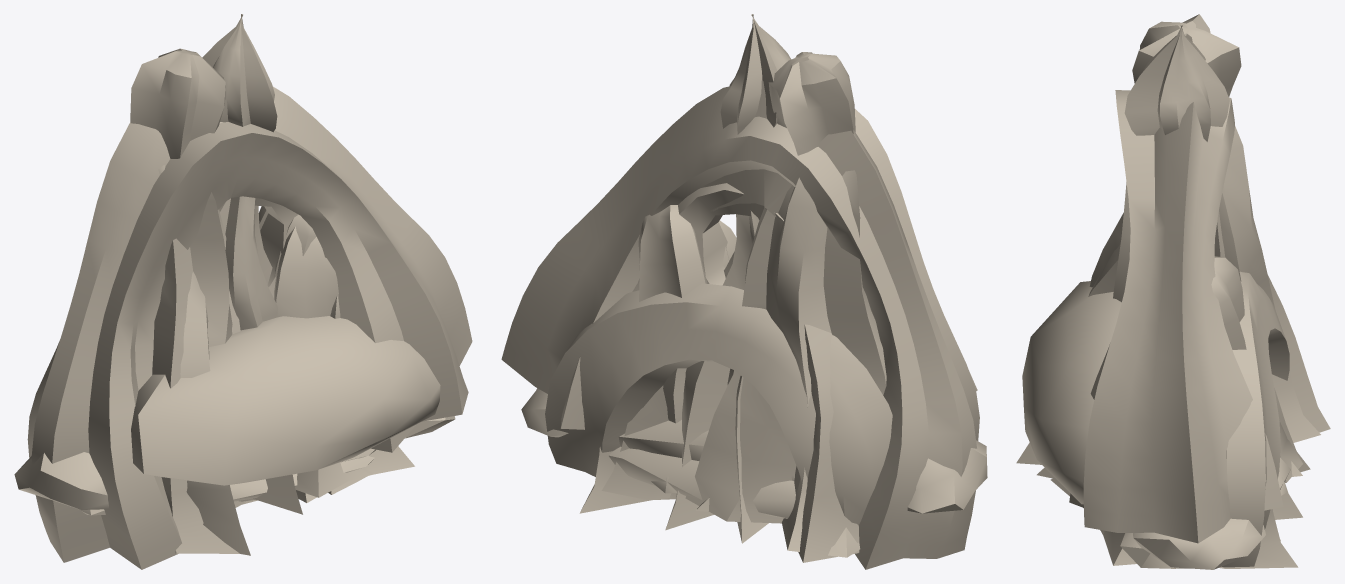
File: Dawnspire_Rocks.fbx
3 renders of one model, left to right at view 1: azimuth 30°, elevation 25°; view 2: azimuth 150°, elevation 25°; view 3: azimuth 270°, elevation 25°, orthographic. The views are drawn at different scales.
Visible parts, largest first — view 1: Dawnspire_Rocks_ScholarE__Stone, Dawnspire_Rocks_ScholarD__Stone, Dawnspire_Rocks_ScholarC__Stone, Dawnspire_Rocks_ScholarA__Stone, Dawnspire_Rocks_ScholarB__Stone; view 2: Dawnspire_Rocks_ScholarE__Stone, Dawnspire_Rocks_ScholarA__Stone, Dawnspire_Rocks_ScholarD__Stone, Dawnspire_Rocks_ScholarC__Stone, Dawnspire_Rocks_ScholarB__Stone; view 3: Dawnspire_Rocks_ScholarE__Stone, Dawnspire_Rocks_ScholarD__Stone, Dawnspire_Rocks_ScholarA__Stone, Dawnspire_Rocks_ScholarC__Stone, Dawnspire_Rocks_ScholarB__Stone.
Boxes of the visible parts, x1,y1,x2,y2 form: Dawnspire_Rocks_ScholarE__Stone: (27,86,472,569); Dawnspire_Rocks_ScholarD__Stone: (14,316,440,509); Dawnspire_Rocks_ScholarC__Stone: (152,165,414,553); Dawnspire_Rocks_ScholarA__Stone: (130,48,374,555); Dawnspire_Rocks_ScholarB__Stone: (202,14,373,514); Dawnspire_Rocks_ScholarE__Stone: (501,80,979,569); Dawnspire_Rocks_ScholarA__Stone: (601,52,859,562); Dawnspire_Rocks_ScholarD__Stone: (521,283,987,525); Dawnspire_Rocks_ScholarC__Stone: (579,170,886,557); Dawnspire_Rocks_ScholarB__Stone: (651,14,791,543); Dawnspire_Rocks_ScholarE__Stone: (1069,90,1283,568); Dawnspire_Rocks_ScholarD__Stone: (1022,271,1289,569); Dawnspire_Rocks_ScholarA__Stone: (1016,14,1330,540); Dawnspire_Rocks_ScholarC__Stone: (1050,126,1320,568); Dawnspire_Rocks_ScholarB__Stone: (1037,24,1310,533).
Size of the model in its own units: 10 by 10.32 by 5.88.
